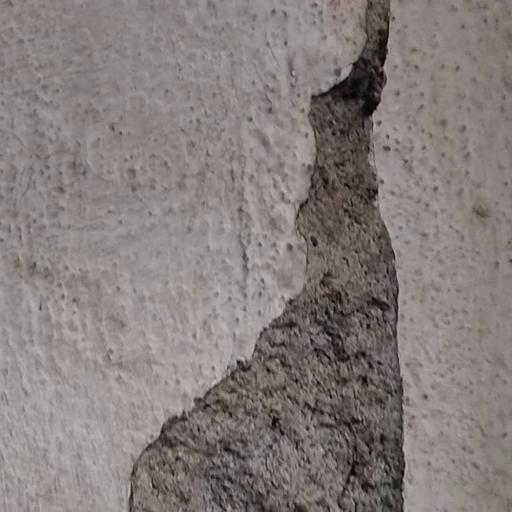spalling: (130, 0, 409, 512)
